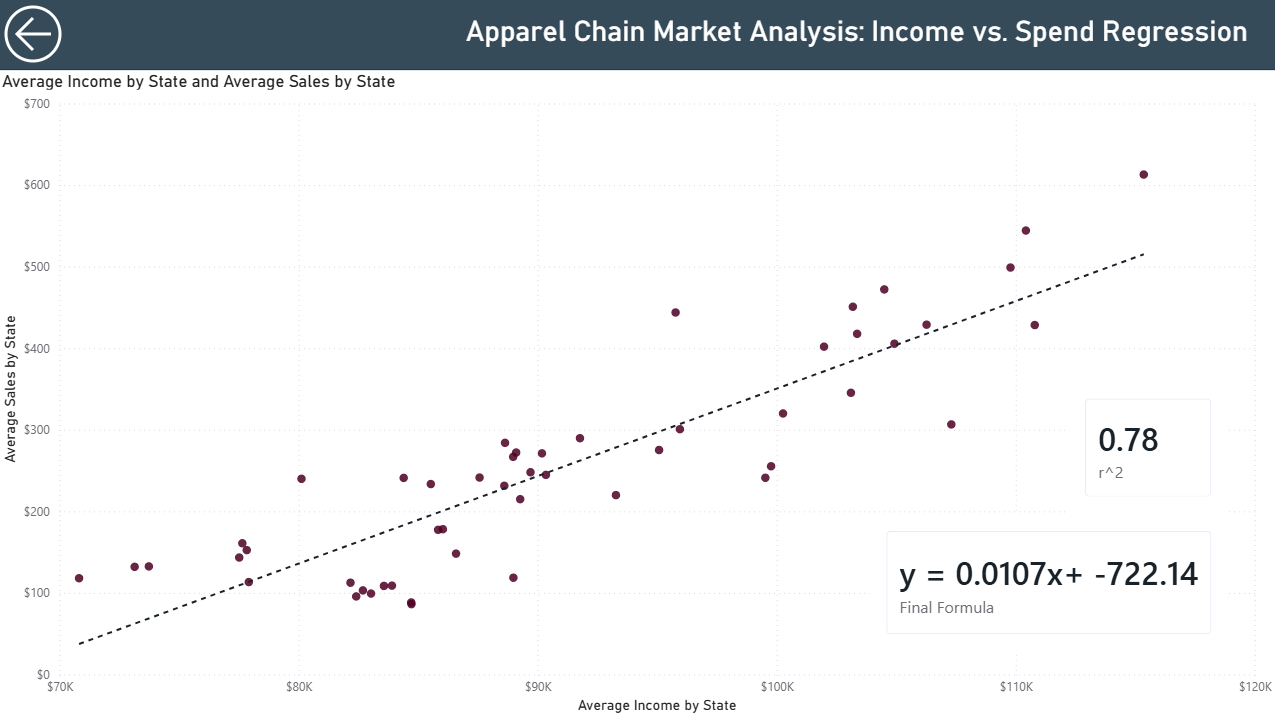

The page's visual inventory and layout, read from the dashboard file:
{"tool":"powerbi","page":{"name":"Income vs. Spend Regression","canvas":[1280,720],"ordinal":3},"visuals":[{"type":"shape","box":[0,0,1280,72],"z":0,"group":"g1"},{"type":"scatterChart","fields":{"X":["Regression Table.x"],"Y":["Regression Table.y"]},"box":[0,72,1280,648],"z":0},{"type":"textbox","box":[464,11,816,49],"z":1000,"group":"g1"},{"type":"cardVisual","fields":{"Data":["Regression Table.Final Formula"]},"box":[872,516,359,137],"z":1000},{"type":"group","id":"g1","title":"Header","box":[0,0,1280,72],"z":2000,"group":"g2"},{"type":"cardVisual","fields":{"Data":["Age Range.Sum of x and Sum of y correlation for y"]},"box":[1071,384,160,132],"z":2000},{"type":"actionButton","title":"Back Button","box":[0,0,83,72],"z":2500,"group":"g2"},{"type":"group","id":"g2","title":"Header","box":[0,0,1280,72],"z":3000}]}

Visuals, with their boxes in screenshot pixels (x1, y1, x2, y2), scaled from the page's 1280x720 canvas onto the 1275x716 screenshot:
shape: [0,0,1274,72]
scatterChart - Regression Table.x x Regression Table.y: [0,72,1274,715]
textbox: [462,11,1274,60]
cardVisual - Regression Table.Final Formula: [869,513,1226,649]
"Header" group: [0,0,1274,72]
cardVisual - Age Range.Sum of x and Sum of y correlation for y: [1067,382,1226,513]
"Back Button" actionButton: [0,0,83,72]
"Header" group: [0,0,1274,72]
